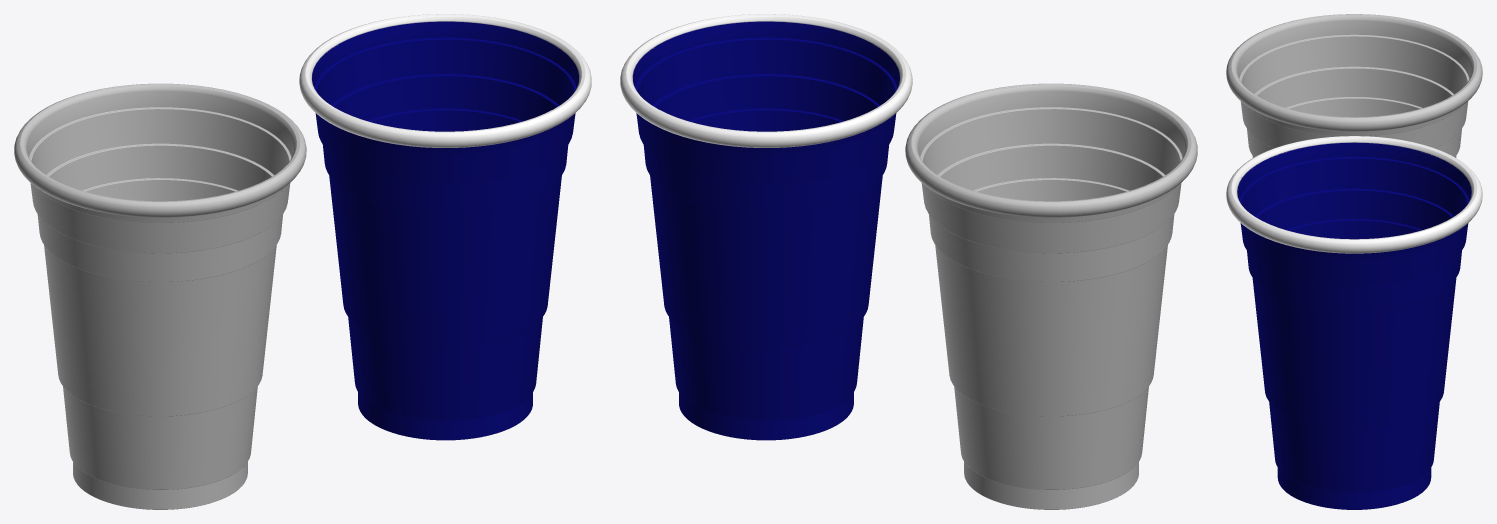
Rendered from copo_americano_platico.fbx.
3 views of the same model, side by side, from view 1: azimuth 30°, elevation 25°; view 2: azimuth 150°, elevation 25°; view 3: azimuth 270°, elevation 25° (orthographic). The views are drawn at different scales.
Parts seen in each view (by area): view 1: Cylinder, Cylinder.001; view 2: Cylinder, Cylinder.001; view 3: Cylinder.001, Cylinder.
Part boxes in pixels (left/top/right/bottom): Cylinder: left=14, top=83, right=306, bottom=509; Cylinder.001: left=299, top=14, right=591, bottom=440; Cylinder: left=905, top=83, right=1197, bottom=509; Cylinder.001: left=620, top=14, right=912, bottom=440; Cylinder.001: left=1226, top=136, right=1482, bottom=509; Cylinder: left=1226, top=14, right=1482, bottom=157.
Size of the model in its own units: 284 by 166 by 134.
